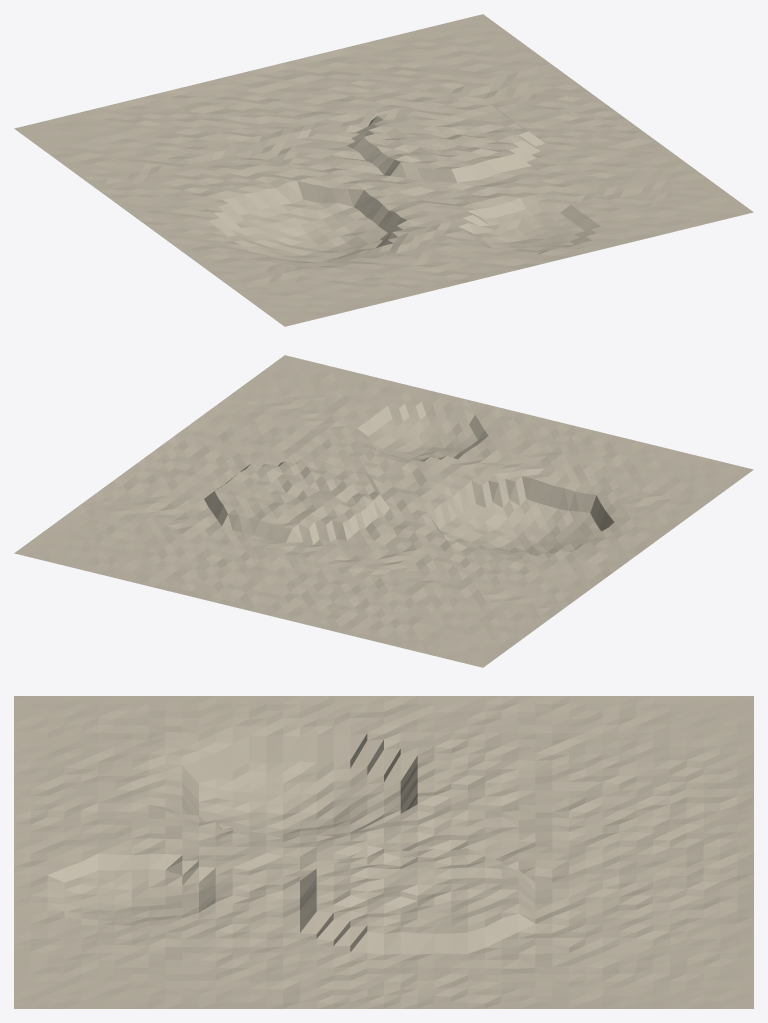
Rendered from Ground_m_03.fbx.
The picture shows the model from 3 angles, top to bottom: view 1: azimuth 30°, elevation 25°; view 2: azimuth 150°, elevation 25°; view 3: azimuth 270°, elevation 25°; orthographic projection. The views are drawn at different scales.
Parts seen in each view (by area): view 1: Ground_m_03; view 2: Ground_m_03; view 3: Ground_m_03.
Boxes of the visible parts, x1,y1,x2,y2 form: Ground_m_03: (14, 14, 753, 326); Ground_m_03: (14, 355, 753, 667); Ground_m_03: (14, 696, 753, 1008).
Bounding box in the file's own units: 10000 × 821 × 10000.
